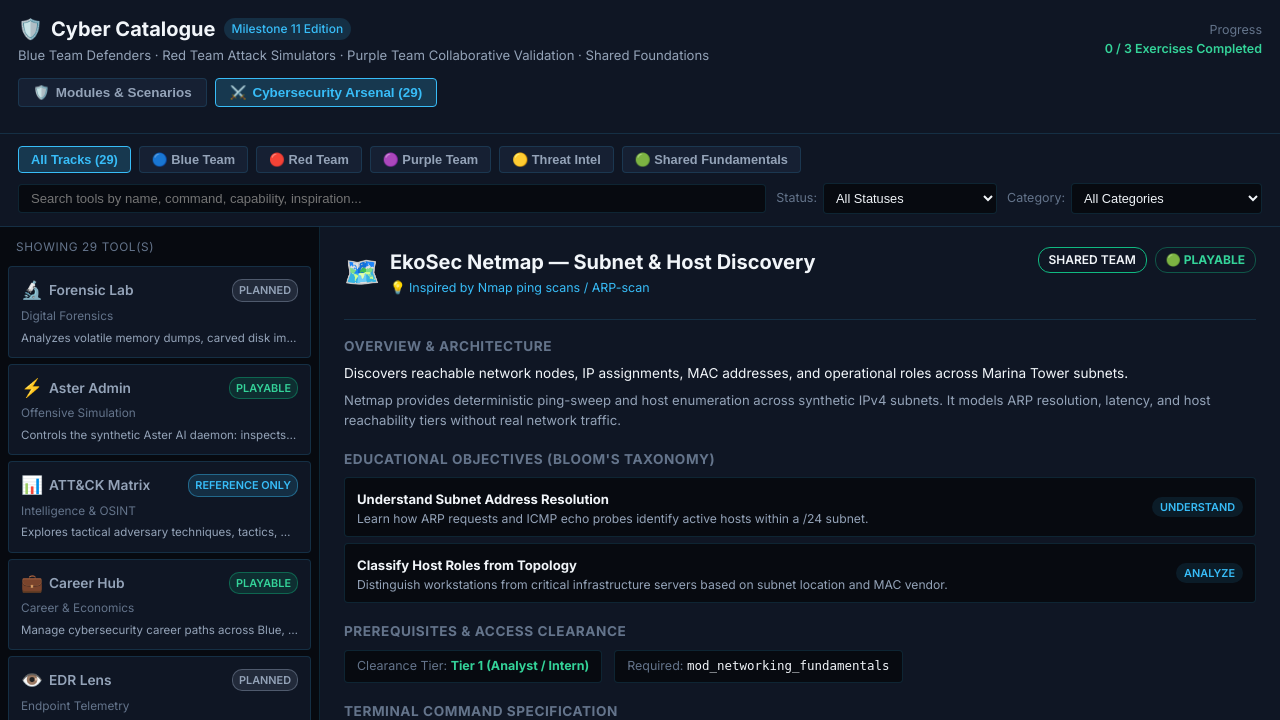
Test: CyberCatalogueApp & CyberArsenalView Integration › filters arsenal tools by status (e.g. Playable vs Partial)
Select "🟢 Playable (Verified)" in the dropdown with test id "arsenal-status-filter" at (910, 198), box [823,183,997,214]
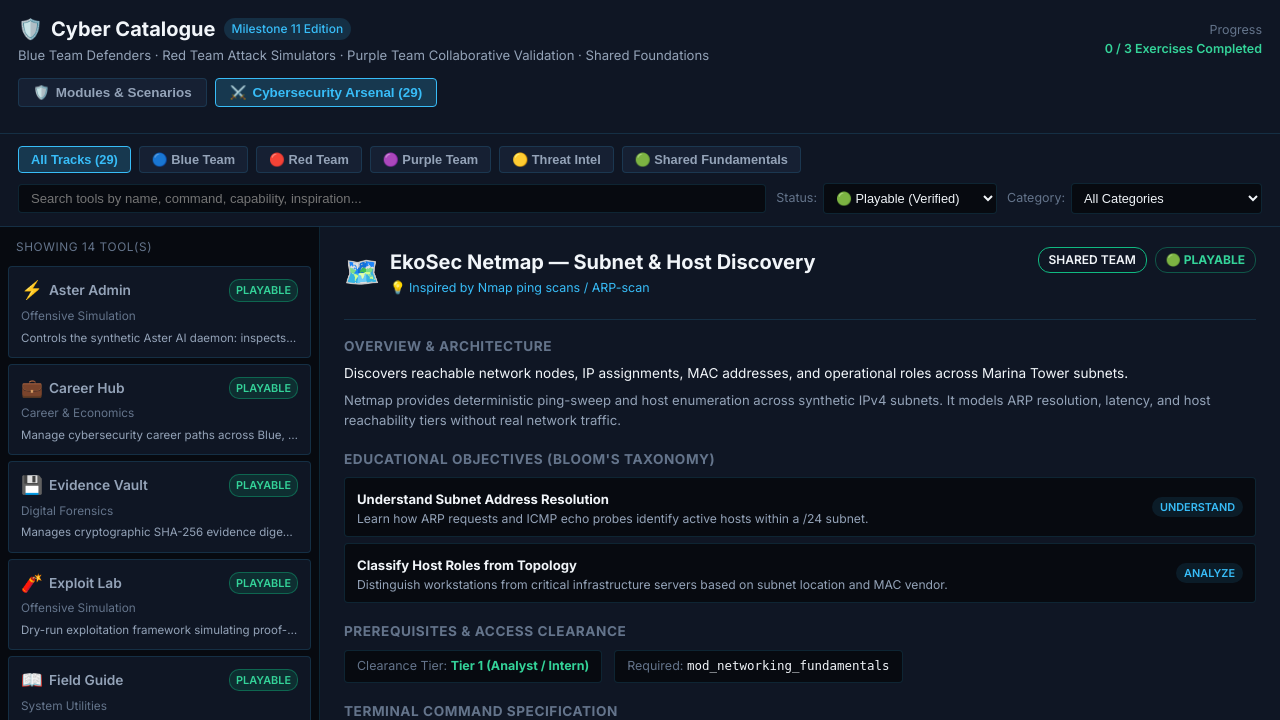
# Now switch to partial
Select "🟡 Partial (Viewer/CLI)" in the dropdown with test id "arsenal-status-filter" at (910, 198), box [823,183,997,214]
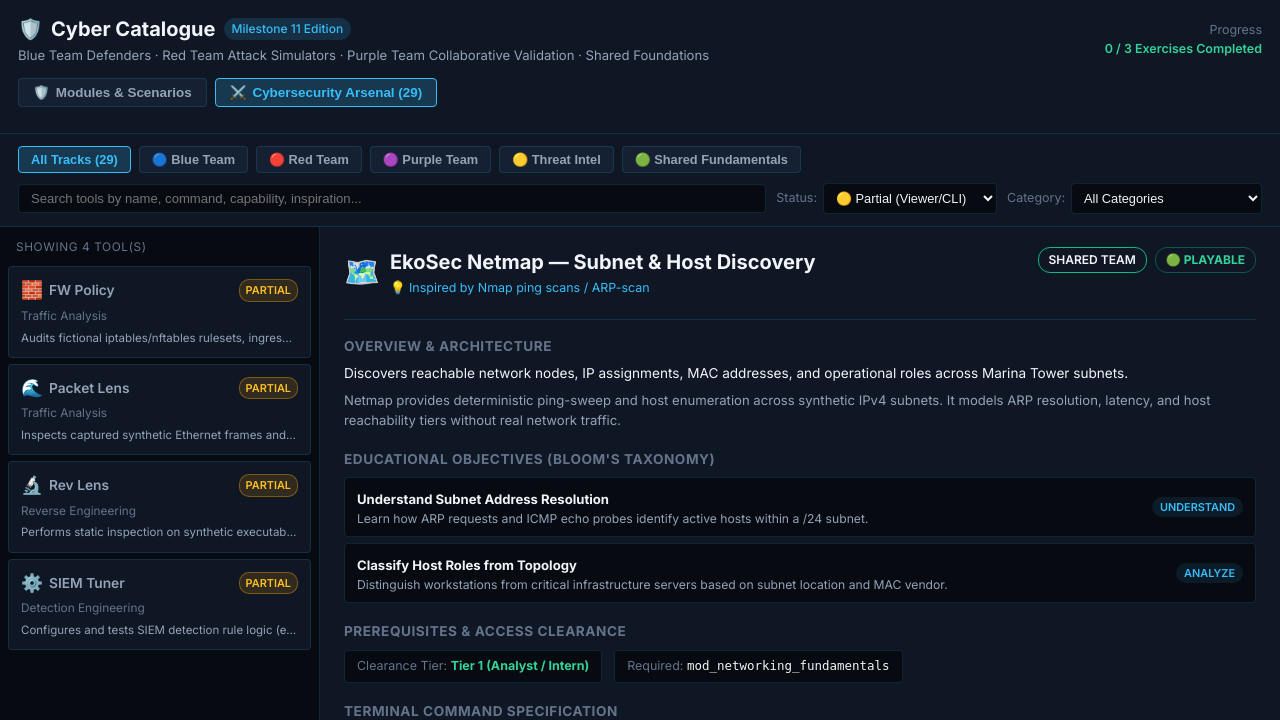
Expected: the button with test id "tool-item-tool_packet_lens" is shown, [8,364,311,455]
Expected: the button with test id "tool-item-tool_rev_lens" is shown, [8,461,311,553]
